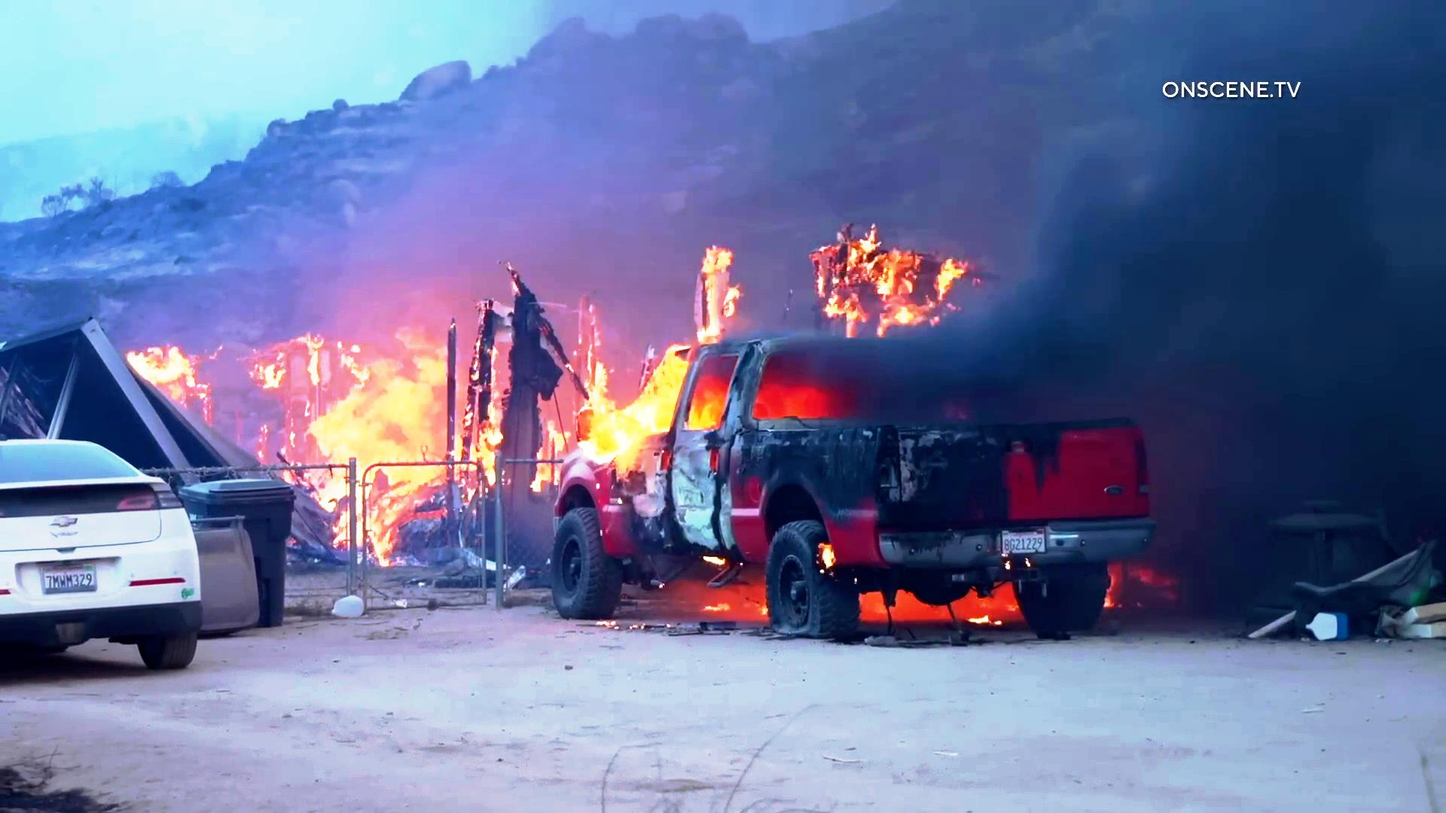fire: (300, 322, 487, 467), (563, 333, 738, 455)
smoke: (1043, 156, 1406, 401)
